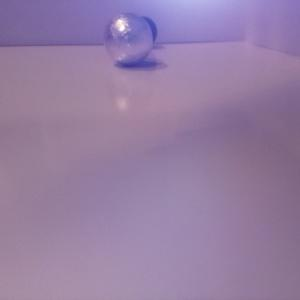alive_ball: (103, 13, 153, 65)
dead_ball: (128, 16, 157, 46)
